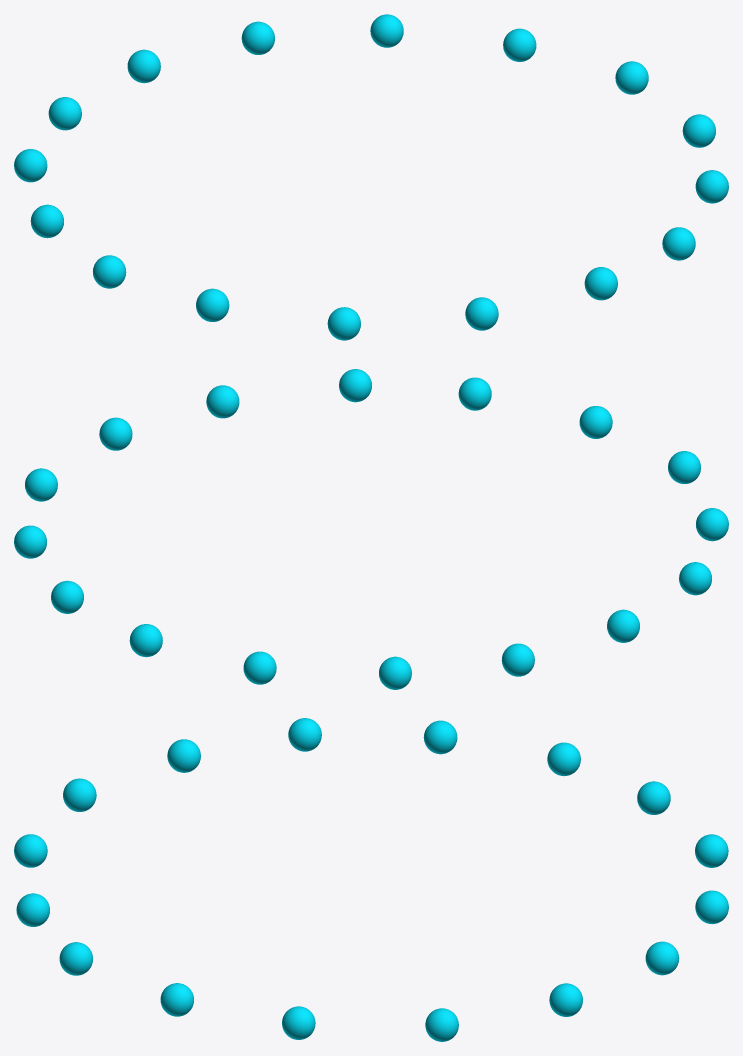
The picture shows the model from 3 angles, top to bottom: view 1: azimuth 30°, elevation 25°; view 2: azimuth 150°, elevation 25°; view 3: azimuth 270°, elevation 25°; orthographic projection.
Visible parts, largest first — view 1: Sphere050; view 2: Sphere050; view 3: Sphere050.
Part boxes in pixels (x1,y1,x2,y2): Sphere050: (14, 14, 728, 340); Sphere050: (14, 369, 728, 689); Sphere050: (14, 718, 728, 1041).
Bounding box in the file's own units: 176 × 8.22 × 174.
